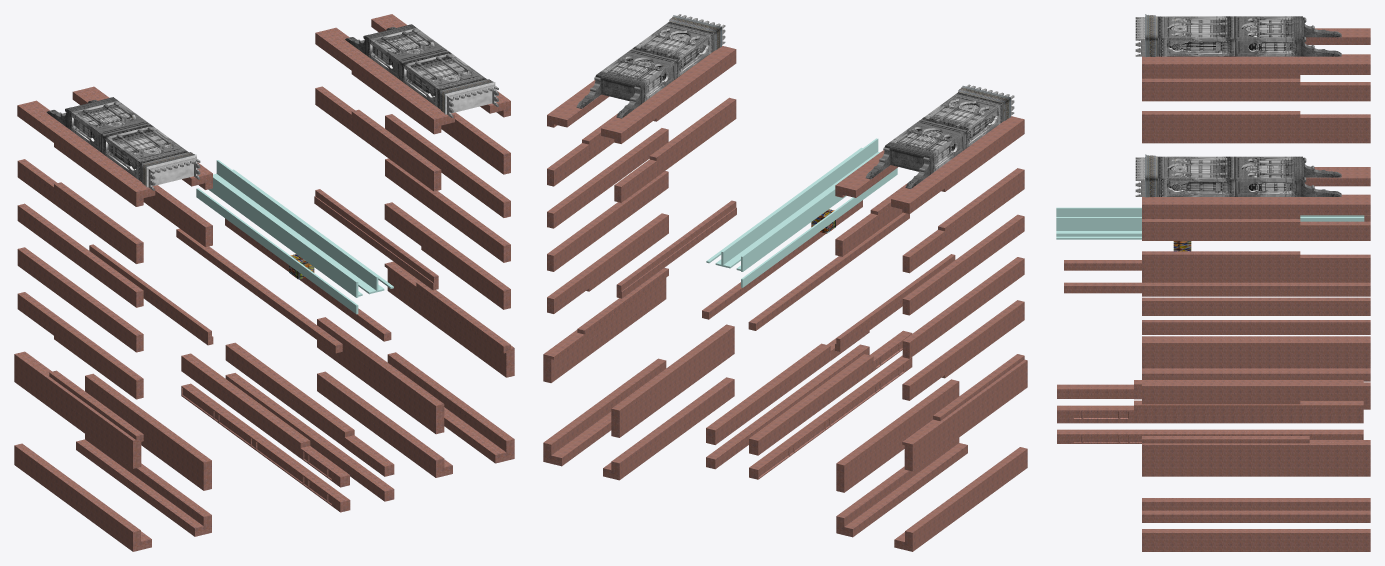
The model's file is castelo_mourisco_outras.fbx.
3 renders of one model, left to right at view 1: azimuth 30°, elevation 25°; view 2: azimuth 150°, elevation 25°; view 3: azimuth 270°, elevation 25°, orthographic. The views are drawn at different scales.
Visible parts, largest first — view 1: colunas_tijolo, paredes_torre_oeste, _torre_anexa_dir.001, _torre_anexa_dir, janela_anexo_frente, janela_anexo_frente.001; view 2: colunas_tijolo, paredes_torre_oeste, _torre_anexa_dir.001, _torre_anexa_dir, janela_anexo_frente.001, janela_anexo_frente; view 3: colunas_tijolo, _torre_anexa_dir.001, _torre_anexa_dir, paredes_torre_oeste, janela_anexo_frente.001, janela_anexo_frente, janela_anexo_dir.001, janela_anexo_dir.
Part boxes in pixels (box(x1,y1,x2,y2)): colunas_tijolo: box(14, 14, 514, 551); paredes_torre_oeste: box(196, 160, 393, 314); _torre_anexa_dir.001: box(345, 24, 498, 117); _torre_anexa_dir: box(46, 97, 200, 190); janela_anexo_frente: box(77, 104, 173, 156); janela_anexo_frente.001: box(376, 31, 471, 83); colunas_tijolo: box(543, 45, 1027, 551); paredes_torre_oeste: box(706, 138, 897, 287); _torre_anexa_dir.001: box(576, 14, 725, 118); _torre_anexa_dir: box(865, 84, 1014, 188); janela_anexo_frente.001: box(608, 30, 699, 81); janela_anexo_frente: box(897, 101, 988, 151); colunas_tijolo: box(1057, 28, 1370, 551); _torre_anexa_dir.001: box(1135, 154, 1341, 197); _torre_anexa_dir: box(1135, 14, 1341, 57); paredes_torre_oeste: box(1056, 207, 1364, 239); janela_anexo_frente.001: box(1169, 160, 1292, 177); janela_anexo_frente: box(1169, 20, 1292, 37); janela_anexo_dir.001: box(1169, 182, 1292, 191); janela_anexo_dir: box(1169, 42, 1292, 50).
Size of the model in its own units: 4726 by 4497 by 3502.
Materials: 13 (12 with a texture image).
